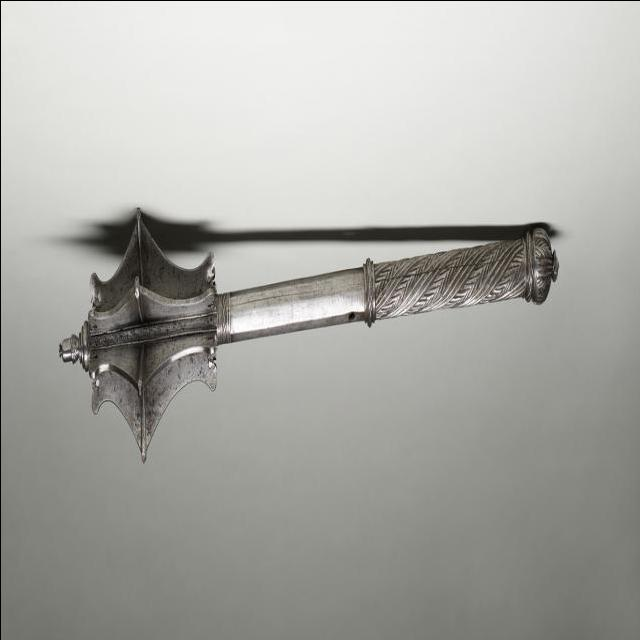mace: (58, 202, 559, 465)
